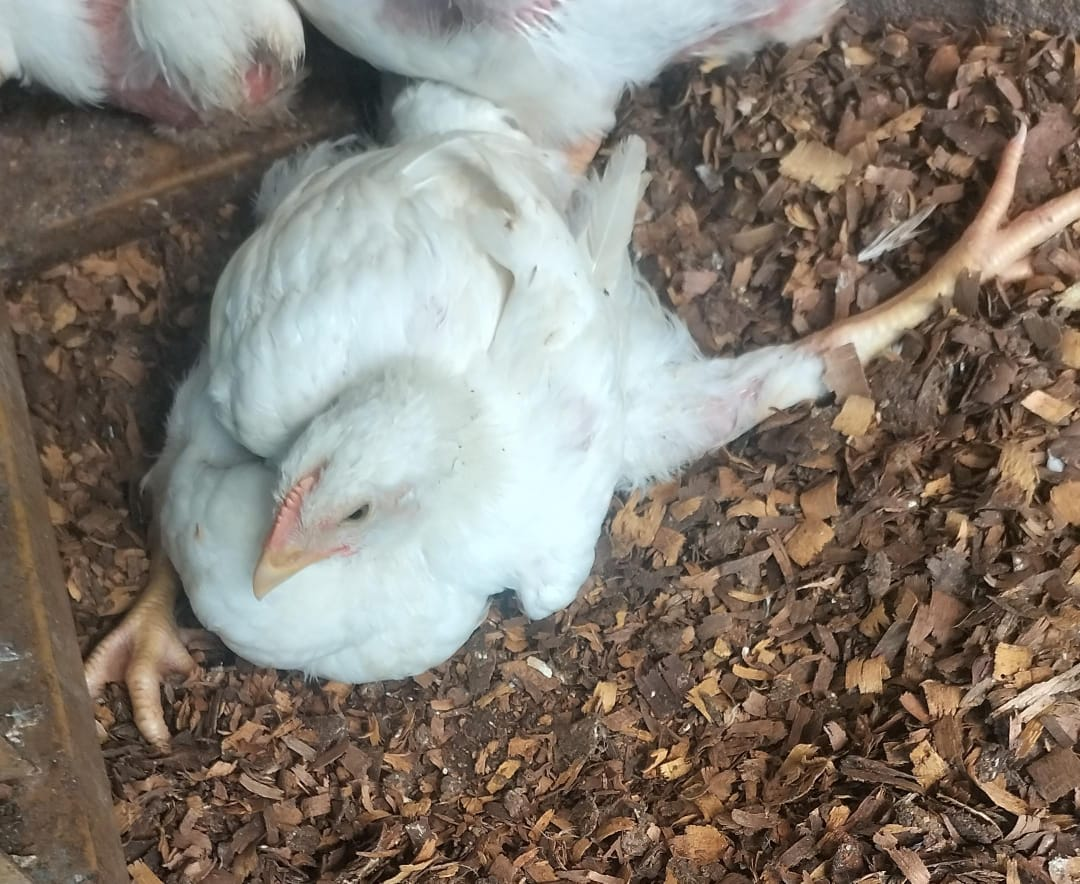Unhealthy: (78, 132, 1052, 735)
